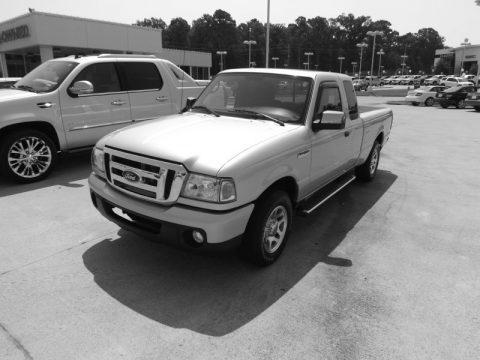car: (90, 66, 394, 278)
